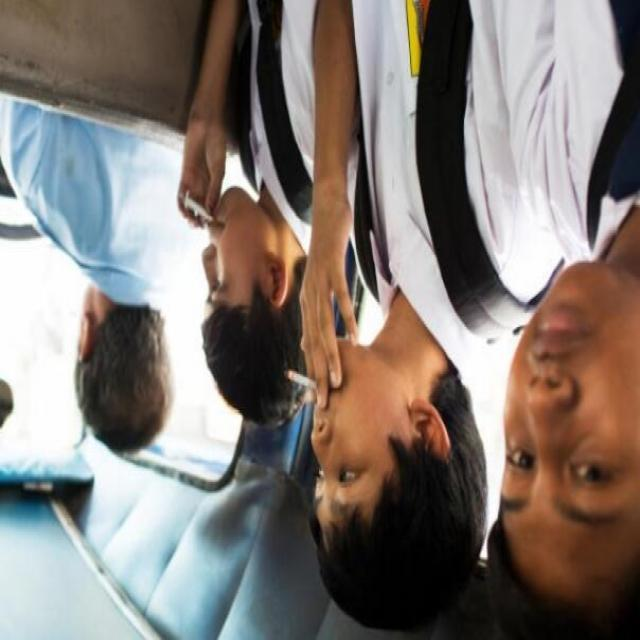cigarette: (274, 354, 330, 416), (172, 186, 224, 247)
